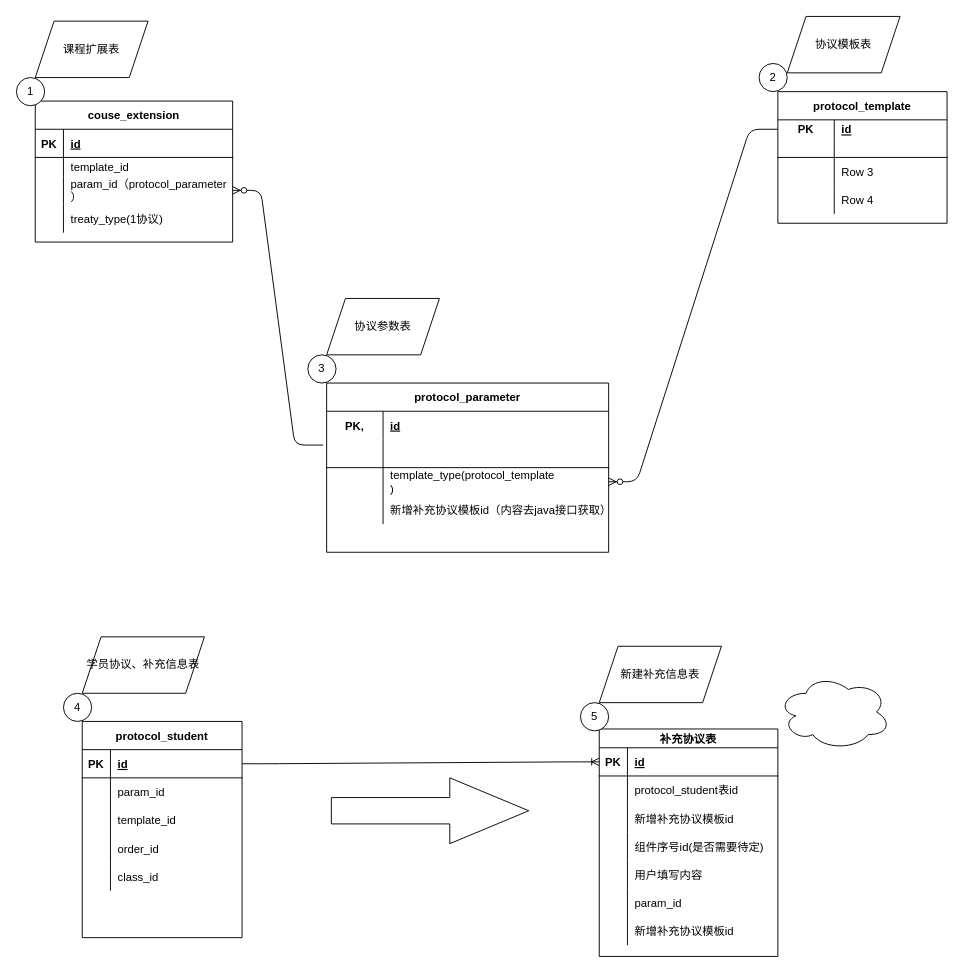
Image size: 964x973. Some labels were removed from this diagram. Here are the shapes that lost their labels. From the top down, the centre of each, then its label:
the point at 834,712: 只做写入 不做更新
the point at 429,810: protocol_student表中的补充信息需要清洗到补充协议表
